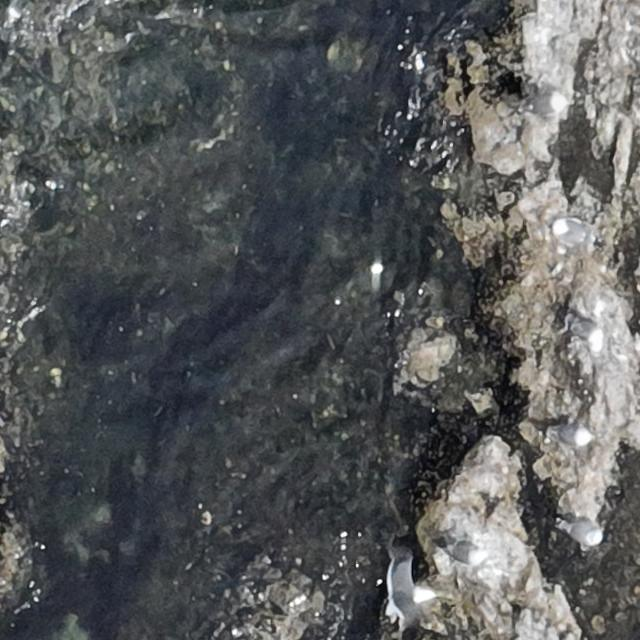F: (386, 554, 431, 624)
umineko: (552, 218, 602, 250), (563, 518, 608, 548), (530, 91, 570, 114), (568, 317, 600, 337), (559, 427, 589, 444)
